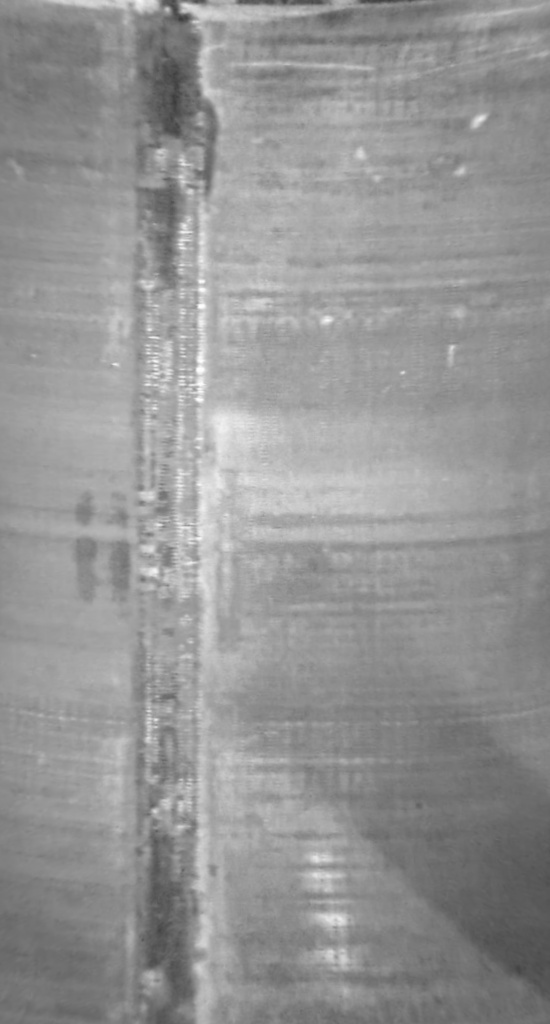splice: (121, 1, 218, 1024)
